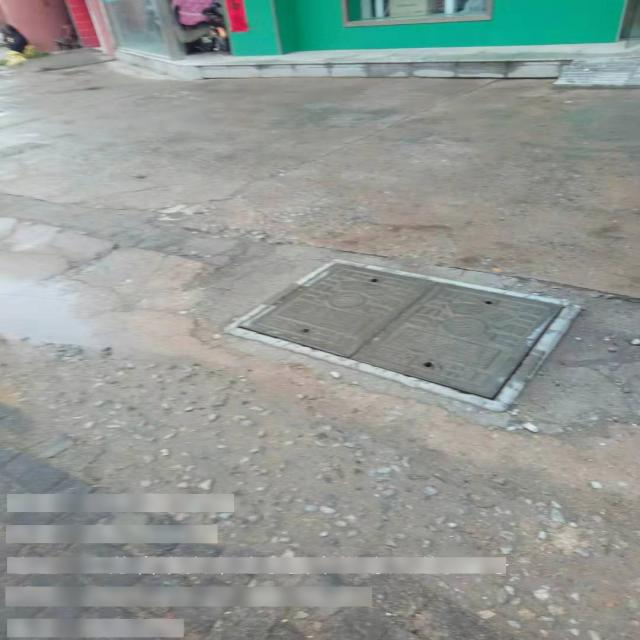Good: (222, 257, 578, 412)
